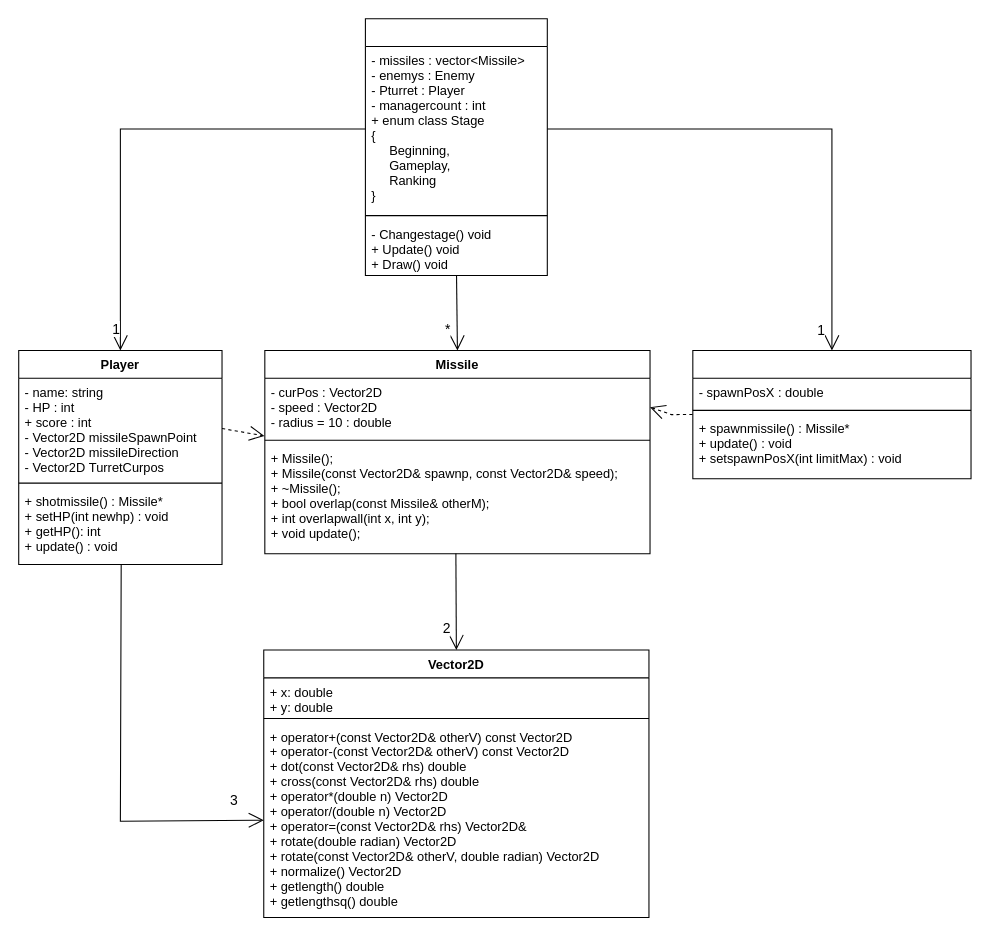
This 990x939 diagram has some shape labels left out. The box of each missing label's shape, as (x1, y1, x2, y2) in pixels:
Enemy: (692, 349, 971, 479)
Gamemanager: (364, 18, 547, 276)
